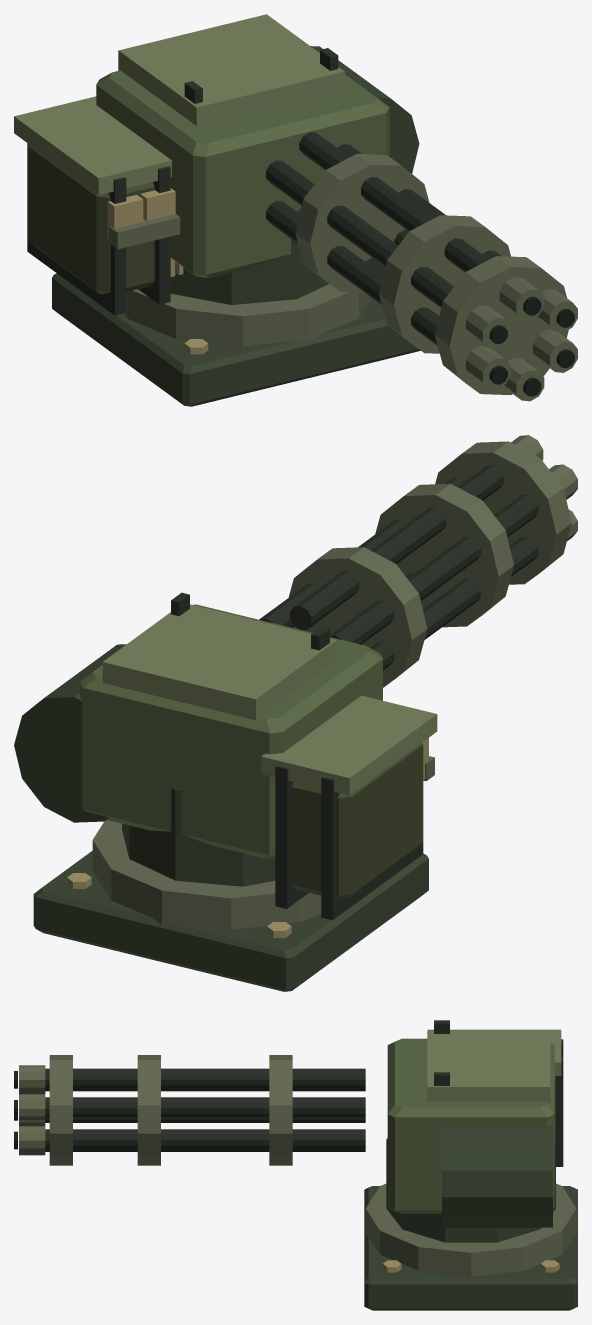
Rendered from minigun.obj.
3 views of the same model, one above another, from view 1: azimuth 30°, elevation 25°; view 2: azimuth 150°, elevation 25°; view 3: azimuth 270°, elevation 25° (orthographic). The views are drawn at different scales.
Visible parts, largest first — view 1: MOVING.008, BASE.018; view 2: MOVING.008, BASE.018; view 3: MOVING.008, BASE.018.
Part boxes in pixels (<box>): MOVING.008: <box>14,14,577,401</box>; BASE.018: <box>52,273,420,406</box>; MOVING.008: <box>14,435,577,920</box>; BASE.018: <box>33,820,428,991</box>; MOVING.008: <box>14,1020,563,1242</box>; BASE.018: <box>364,1183,577,1310</box>.
Bounding box in the file's own units: 1.02 × 0.815 × 1.93.
1 material, 1 textured.
